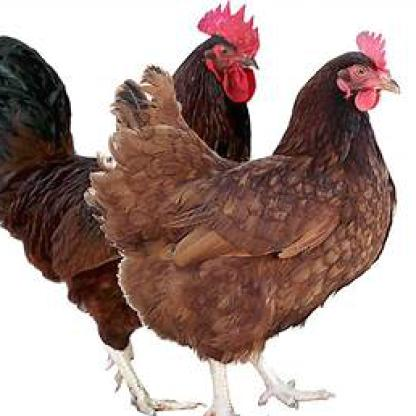chicken: (84, 31, 405, 414), (0, 3, 266, 414)
